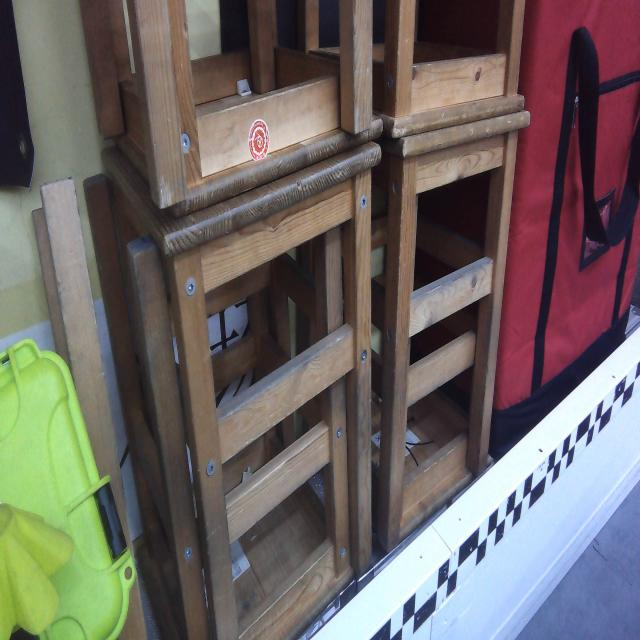Yellow-Stake-Head: (0, 502, 74, 640)
